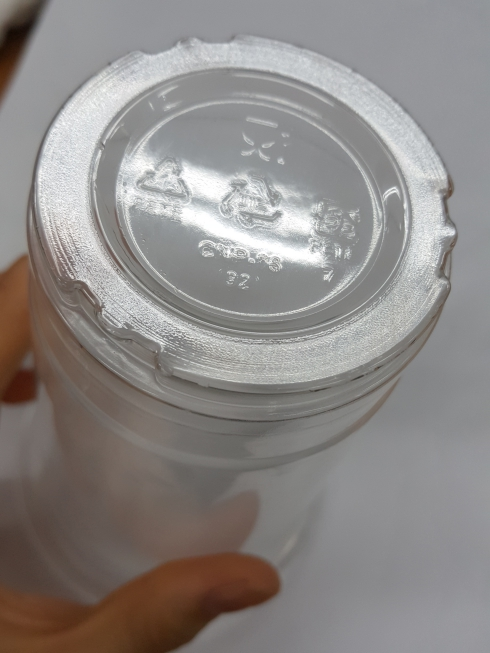recycle: (133, 139, 200, 231)
